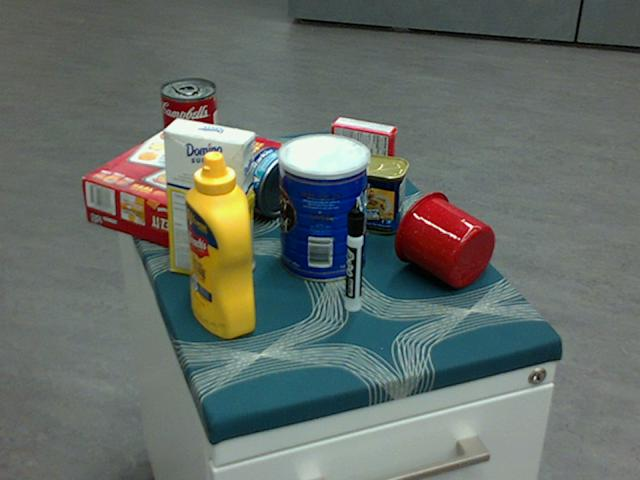cracker_box: (81, 117, 281, 256)
gelatin_box: (331, 117, 396, 181)
large_marker: (345, 209, 363, 312)
master_chef_can: (277, 133, 369, 282)
mug: (393, 190, 495, 287)
mustard_bottle: (186, 151, 254, 339)
potted_meat_can: (323, 150, 407, 232)
sugar_box: (162, 119, 253, 285)
tomato_soup_can: (159, 78, 219, 175)
tuna_fish_can: (238, 146, 300, 216)
